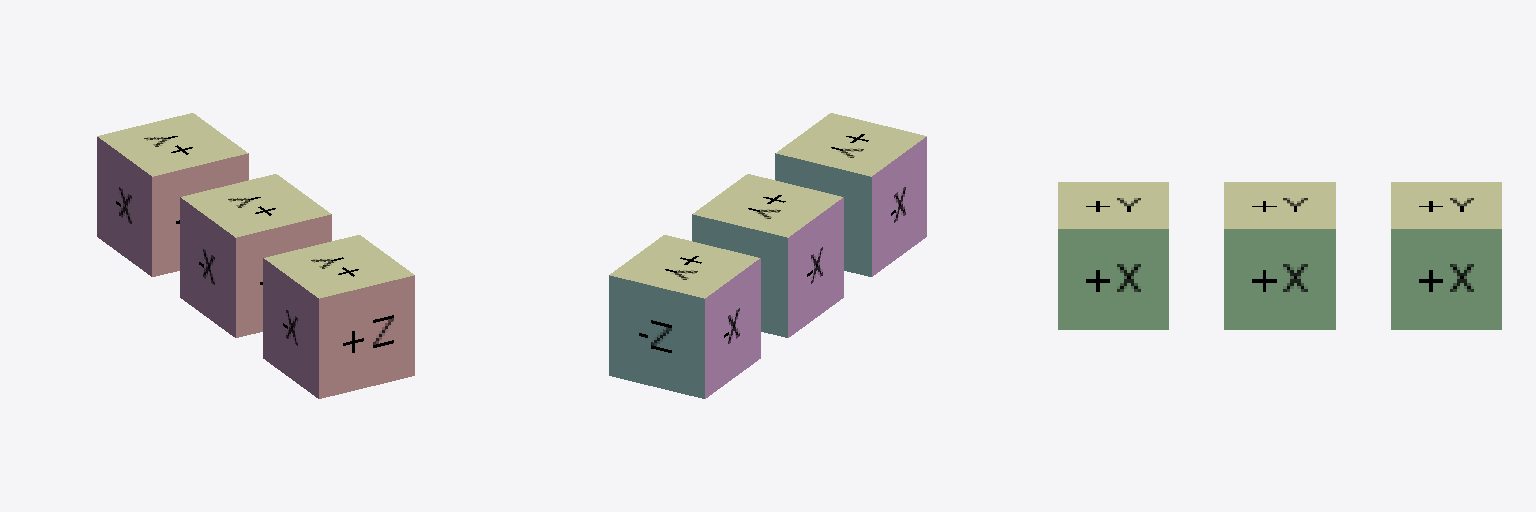
3 renders of one model, left to right at view 1: azimuth 30°, elevation 25°; view 2: azimuth 150°, elevation 25°; view 3: azimuth 270°, elevation 25°, orthographic.
Parts seen in each view (by area): view 1: cube.002_cube_mesh, cube.001_cube_mesh, cube.000_cube_mesh; view 2: cube.001_cube_mesh, cube.002_cube_mesh, cube.000_cube_mesh; view 3: cube.000_cube_mesh, cube.002_cube_mesh, cube.001_cube_mesh.
Part boxes in pixels (bbox=[...]): cube.002_cube_mesh: bbox=[263, 235, 414, 398]; cube.001_cube_mesh: bbox=[97, 113, 248, 276]; cube.000_cube_mesh: bbox=[180, 174, 331, 337]; cube.001_cube_mesh: bbox=[609, 235, 760, 398]; cube.002_cube_mesh: bbox=[775, 113, 926, 276]; cube.000_cube_mesh: bbox=[692, 174, 843, 337]; cube.000_cube_mesh: bbox=[1224, 182, 1335, 329]; cube.002_cube_mesh: bbox=[1058, 182, 1168, 329]; cube.001_cube_mesh: bbox=[1391, 182, 1501, 329].
Bounding box in the file's own units: 2 × 2 × 8.
Materials: 1 (1 with a texture image).